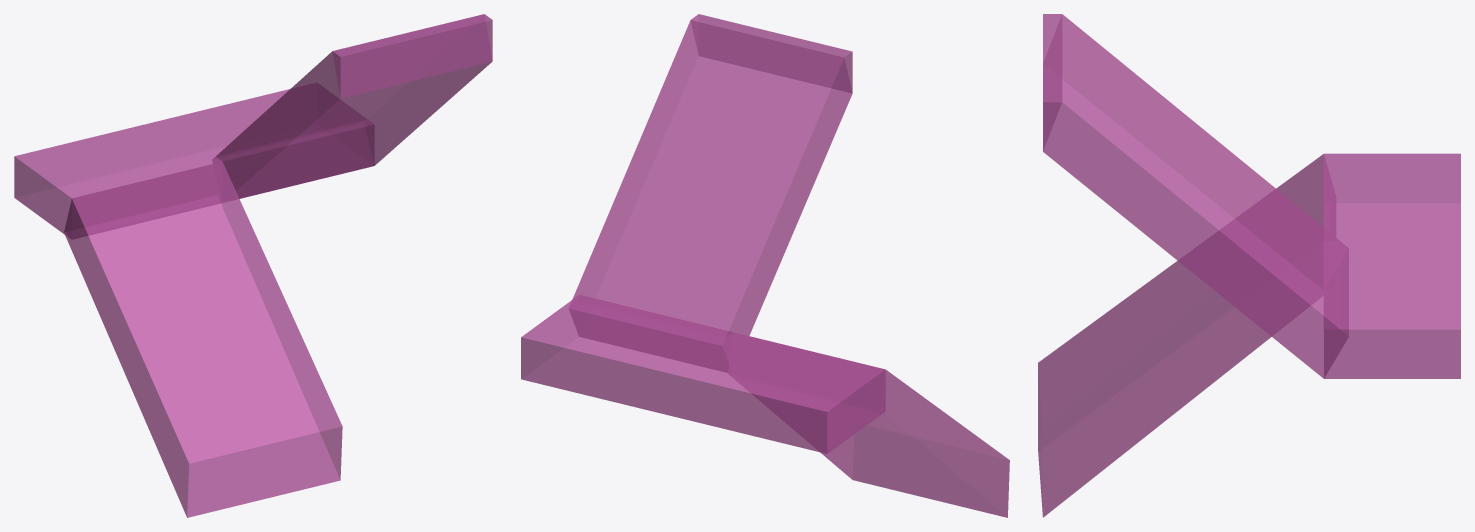
The model's file is SM_Bld_Base_Stairs_02_Collision.glb.
The picture shows the model from 3 angles, left to right: view 1: azimuth 30°, elevation 25°; view 2: azimuth 150°, elevation 25°; view 3: azimuth 270°, elevation 25°; orthographic projection. The views are drawn at different scales.
Parts seen in each view (by area): view 1: SM_Bld_Base_Stairs_02_Collision; view 2: SM_Bld_Base_Stairs_02_Collision; view 3: SM_Bld_Base_Stairs_02_Collision.
Boxes of the visible parts, <box> form: SM_Bld_Base_Stairs_02_Collision: <box>14,14,492,517</box>; SM_Bld_Base_Stairs_02_Collision: <box>521,14,1009,517</box>; SM_Bld_Base_Stairs_02_Collision: <box>1038,14,1460,517</box>.
Bounding box in the file's own units: 2.51 × 3.33 × 2.53.
